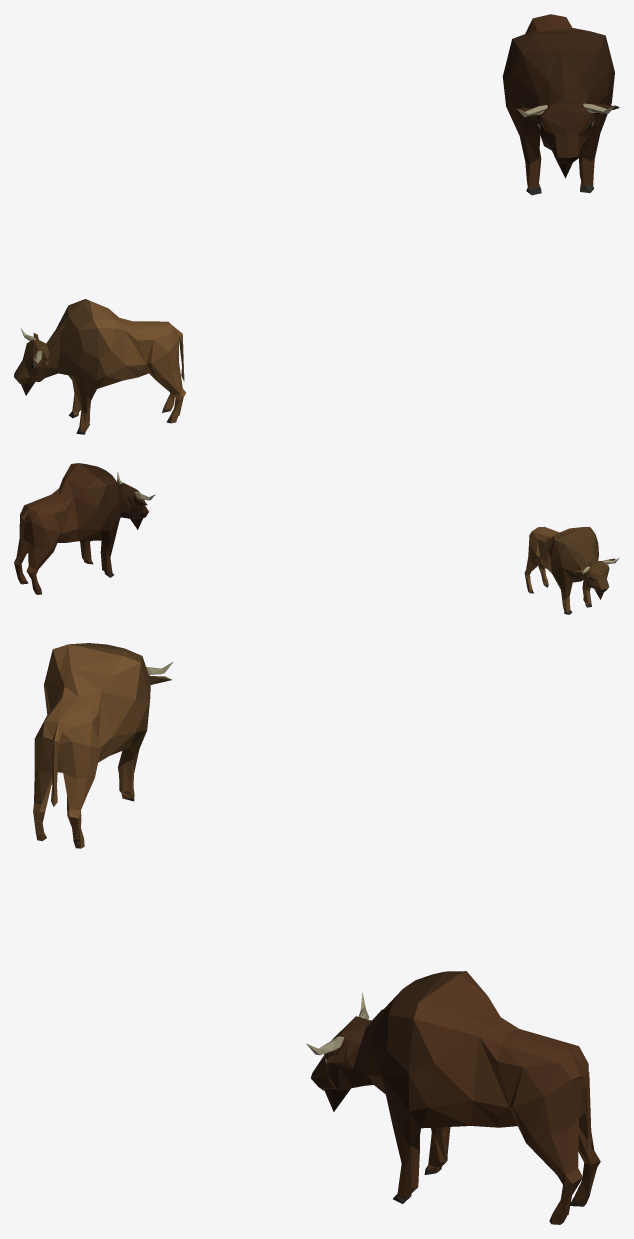
The model's file is bison1.glb.
The picture shows the model from 3 angles, top to bottom: view 1: azimuth 30°, elevation 25°; view 2: azimuth 150°, elevation 25°; view 3: azimuth 270°, elevation 25°; orthographic projection. The views are drawn at different scales.
Parts seen in each view (by area): view 1: bison1; view 2: bison1; view 3: bison1.
Part boxes in pixels (x1,y1,x2,y2): bison1: (14,14,619,434); bison1: (14,463,619,614); bison1: (33,643,600,1224).
Size of the model in its own units: 40.26 by 8.17 by 20.5.
